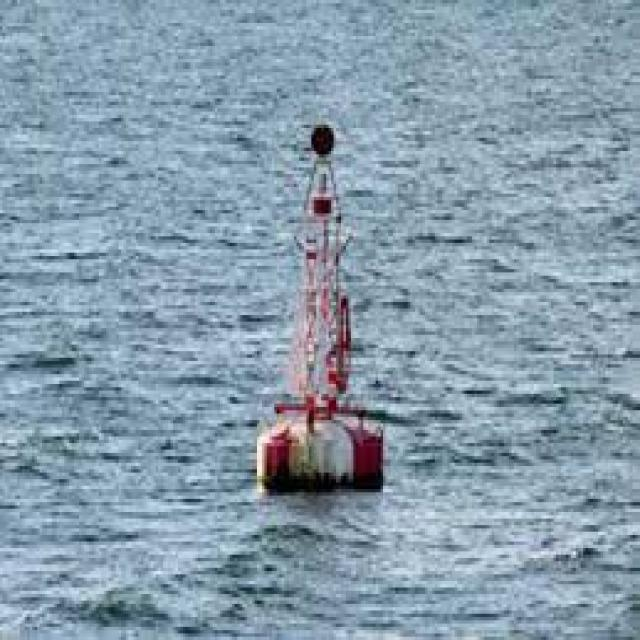marque: (252, 92, 388, 507)
